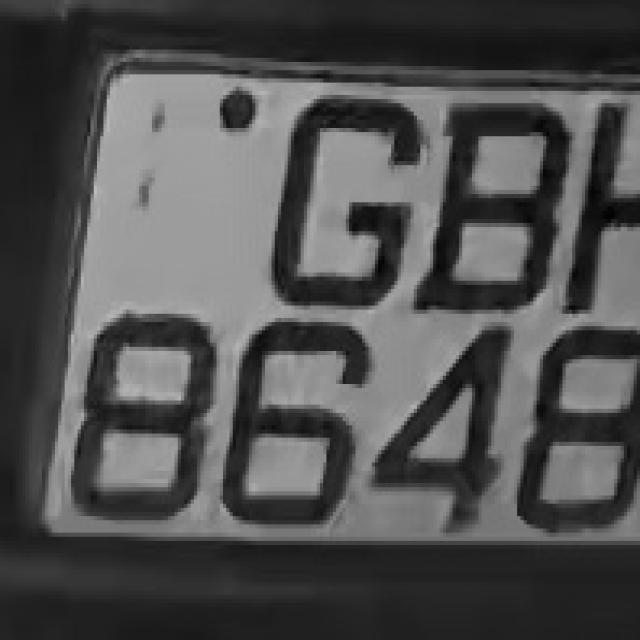4: (365, 310, 530, 520)
6: (233, 306, 365, 528)
8: (81, 310, 207, 524), (530, 322, 637, 549)
B: (427, 91, 562, 318)
G: (246, 95, 424, 306)
H: (572, 87, 640, 330)
